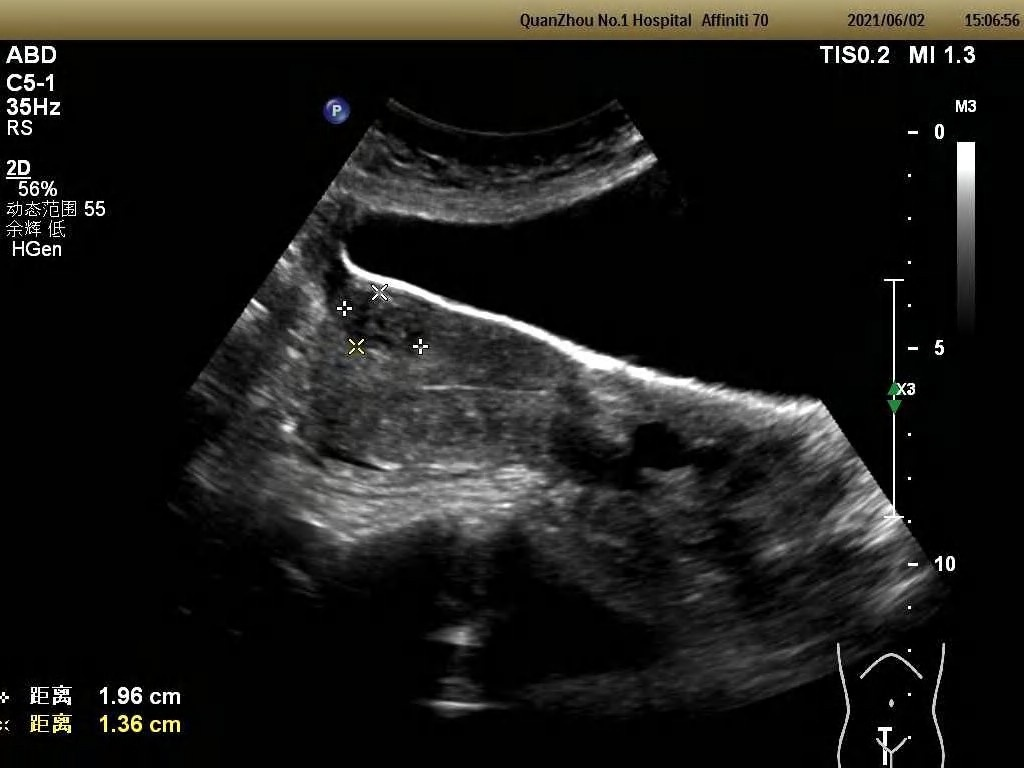肌瘤: (349, 298, 420, 352)
